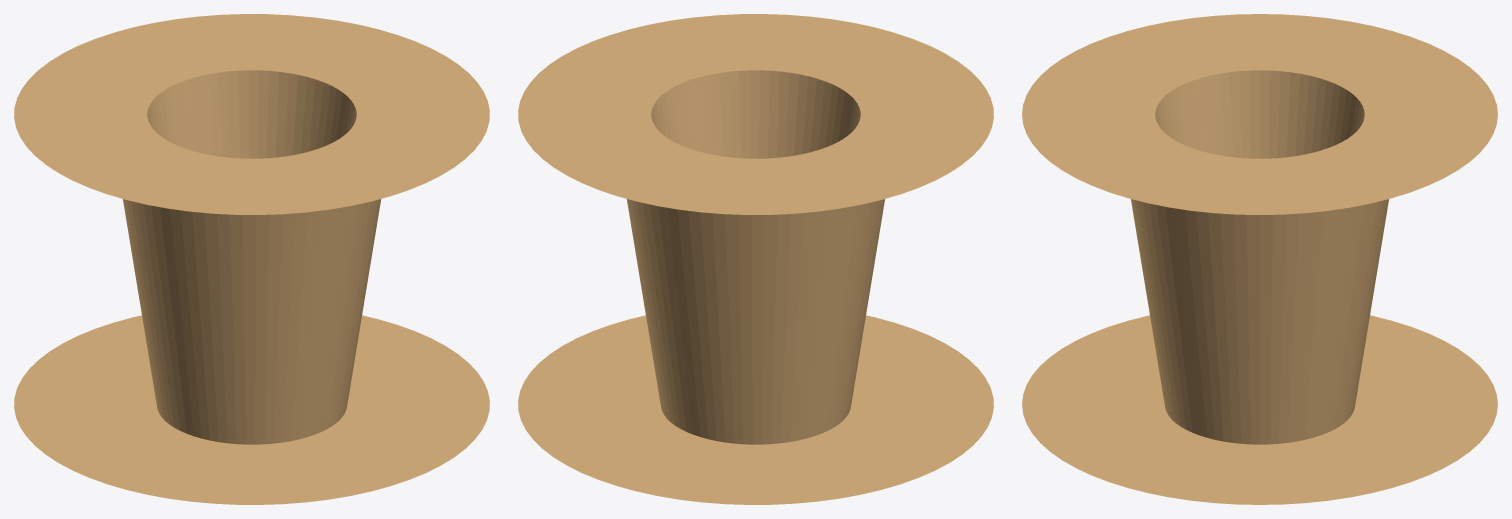
The model's file is board.glb.
3 renders of one model, left to right at view 1: azimuth 30°, elevation 25°; view 2: azimuth 150°, elevation 25°; view 3: azimuth 270°, elevation 25°, orthographic.
Parts seen in each view (by area): view 1: Unified_Via_0; view 2: Unified_Via_0; view 3: Unified_Via_0.
Boxes of the visible parts, left/top/right/bottom form: Unified_Via_0: left=14, top=14, right=489, bottom=504; Unified_Via_0: left=518, top=14, right=993, bottom=504; Unified_Via_0: left=1022, top=14, right=1497, bottom=504.
Bounding box in the file's own units: 0.00025 × 0.000168 × 0.00025.
